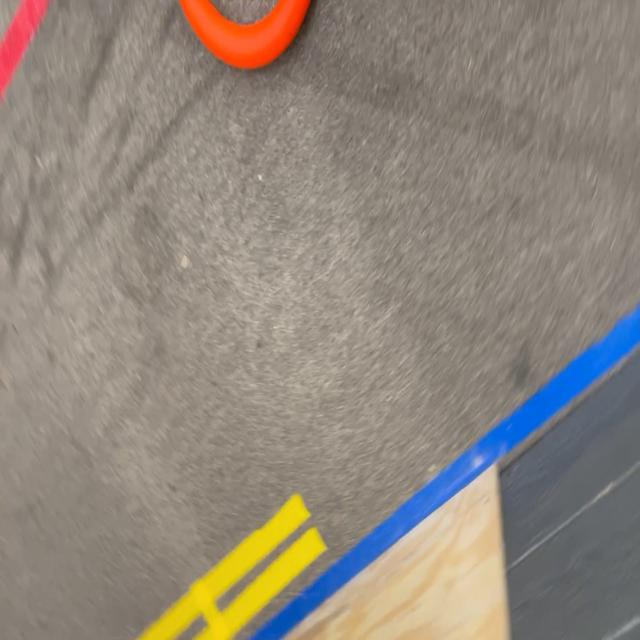note: (175, 0, 313, 66)
